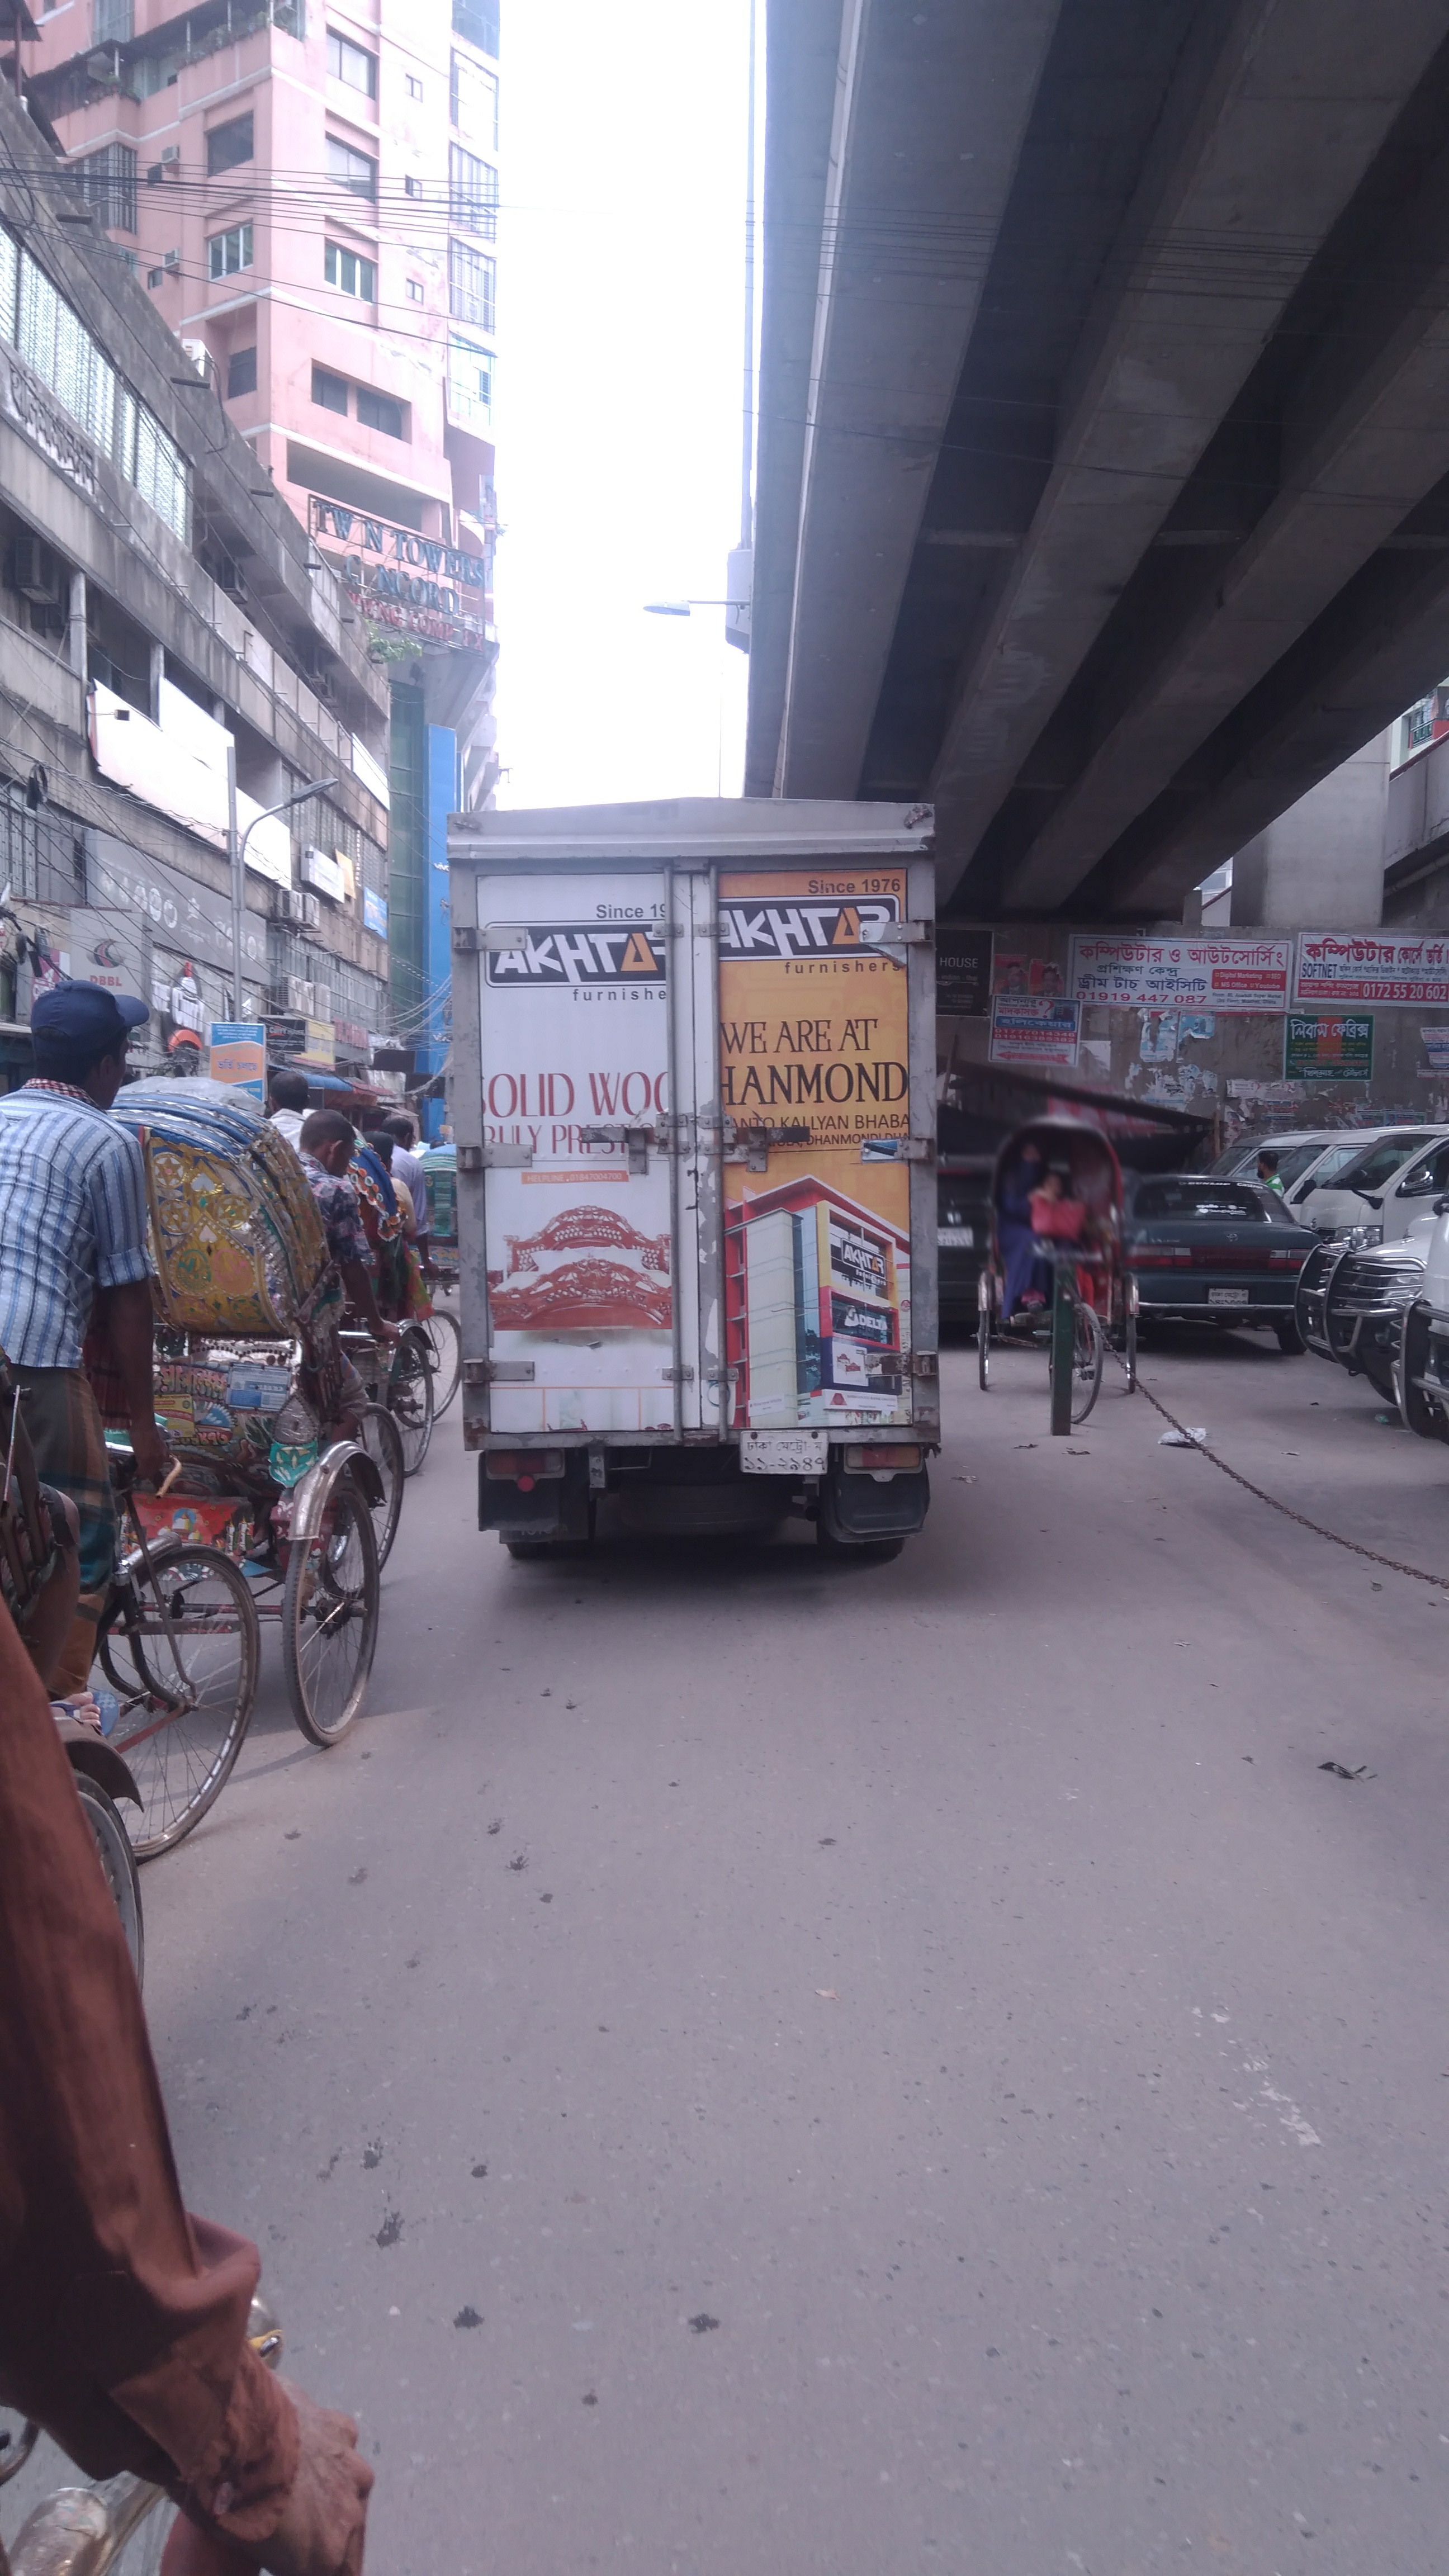car: (435, 778, 977, 1610), (1104, 1141, 1348, 1362), (1311, 1109, 1449, 1417)
rickshaw: (7, 1024, 449, 1881), (7, 962, 262, 1863), (952, 1095, 1178, 1451)
